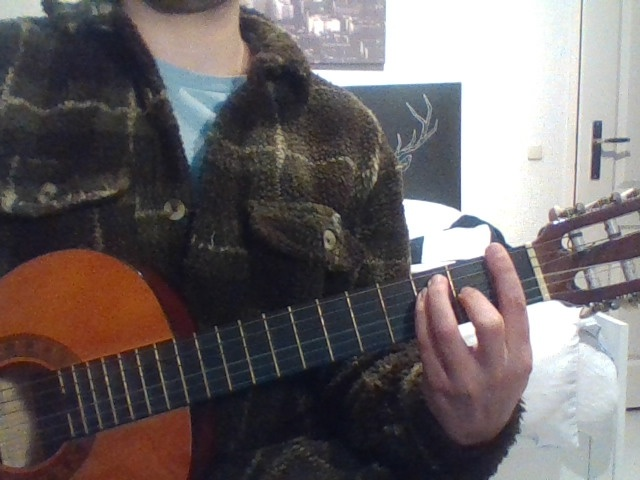F: (394, 238, 561, 454)
